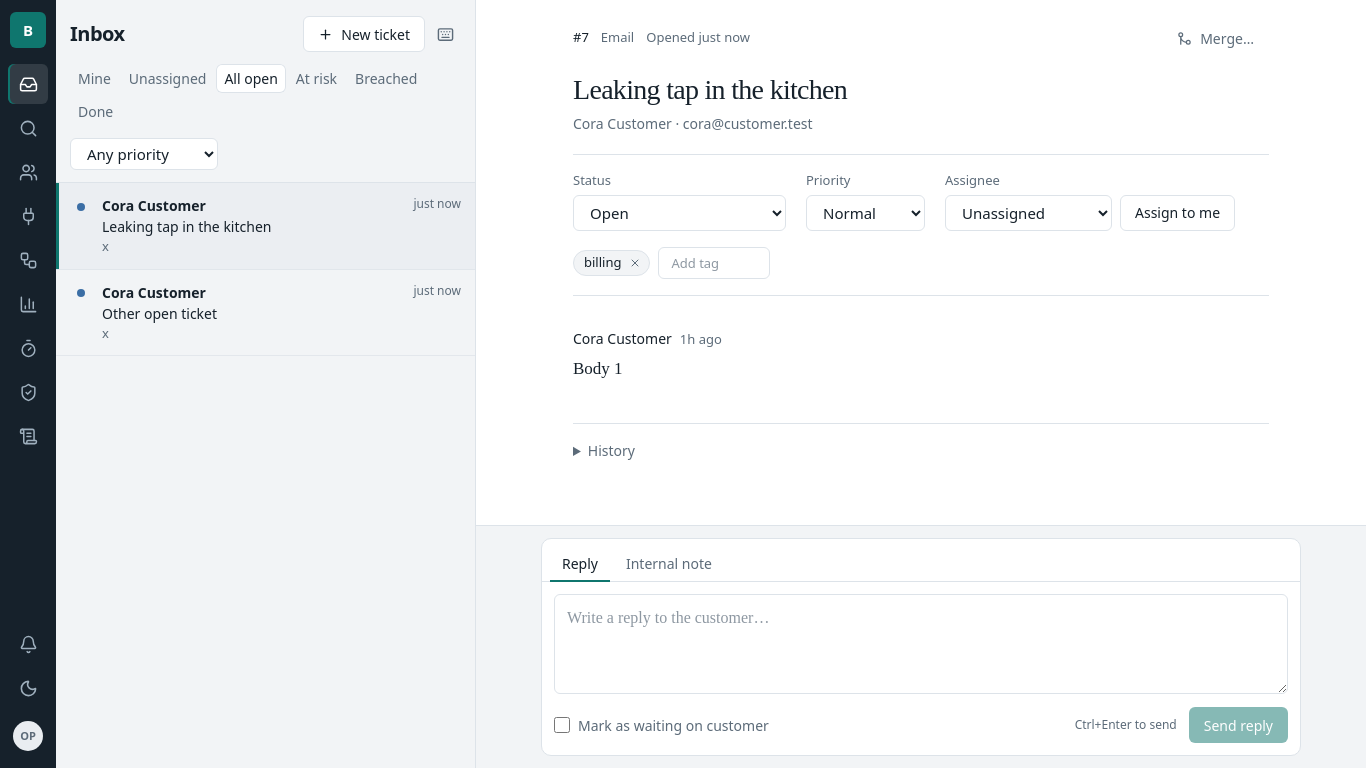
merge and history › shows the real audit history in plain language
Check: the heading "Leaking tap in the kitchen" is shown, box [573,74,847,105]
Click the heading "History".
click(611, 450)  # box [588,441,635,460]
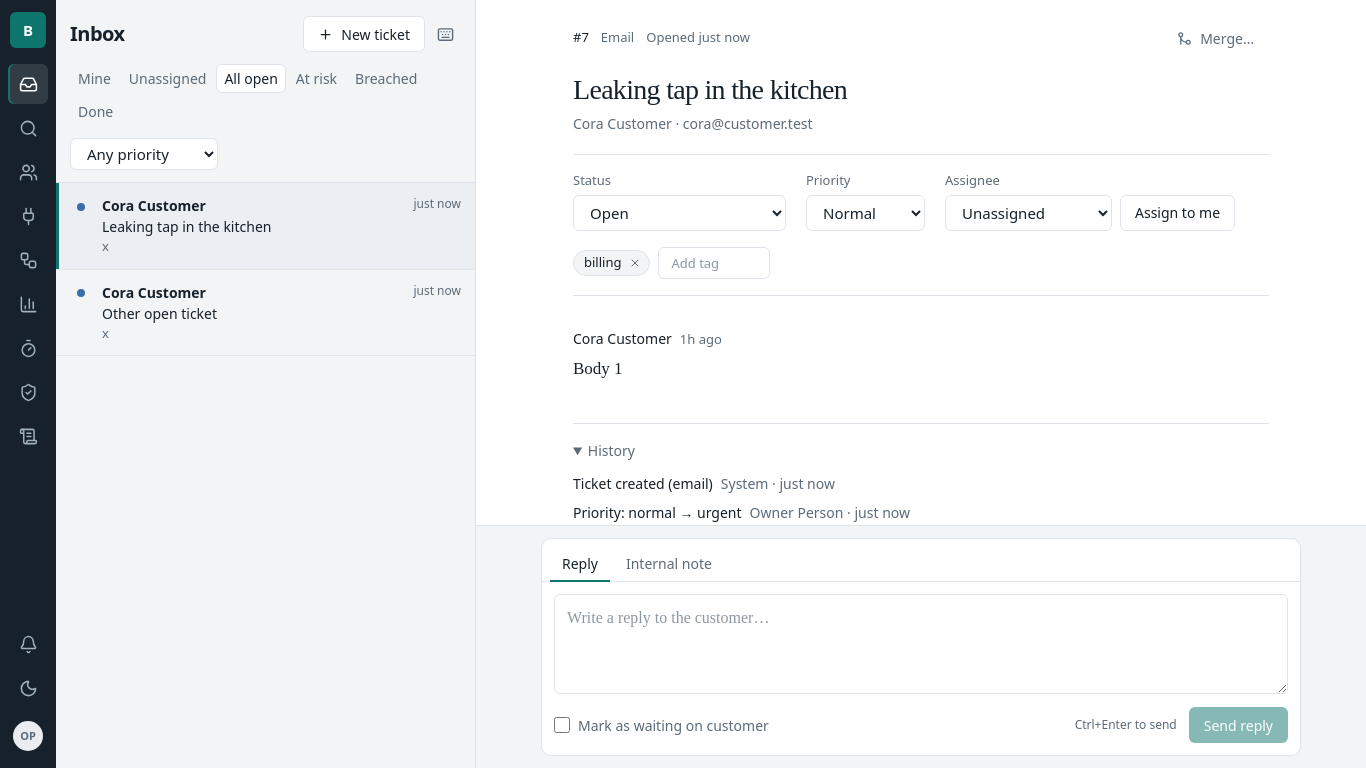
Check: the text "Priority: normal → urgent" is shown, box [573,502,742,523]
Check: the text "Ticket created (email)" is shown, box [573,473,713,494]
